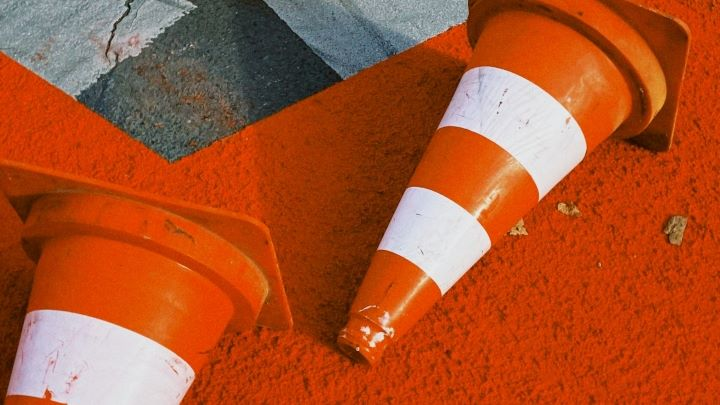Road_cone: (347, 6, 673, 362), (6, 163, 298, 405)
